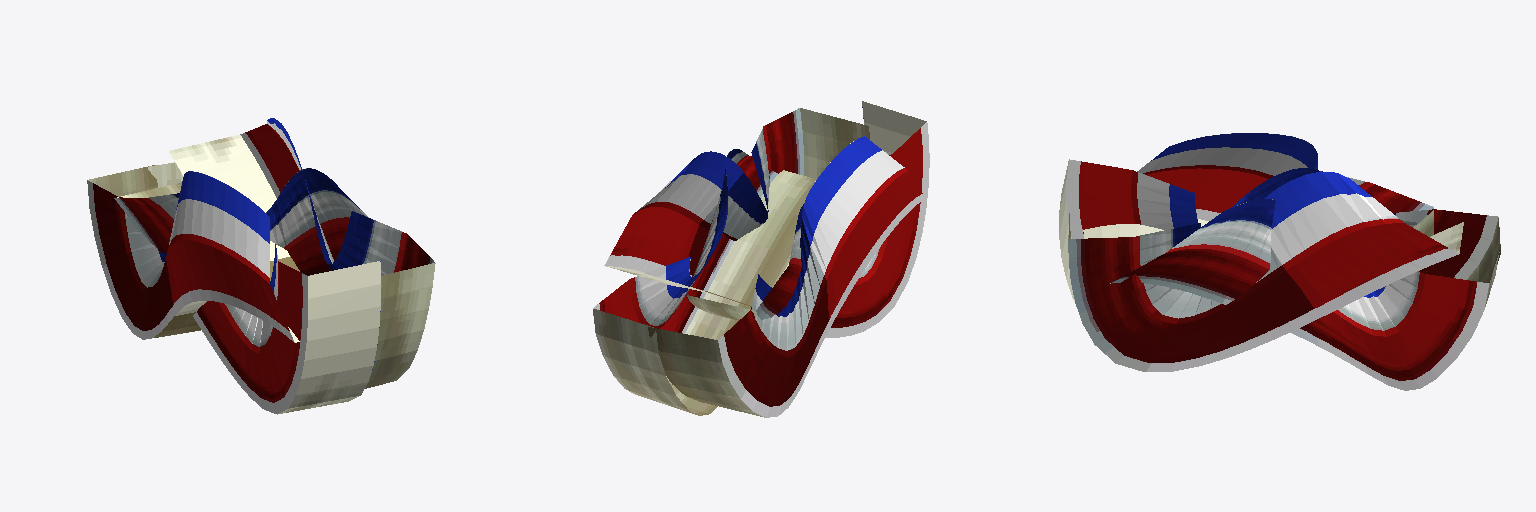
The picture shows the model from 3 angles: view 1: azimuth 30°, elevation 25°; view 2: azimuth 150°, elevation 25°; view 3: azimuth 270°, elevation 25°; orthographic projection.
Visible parts, largest first — view 1: polygon3, polygon2, polygon0, polygon1; view 2: polygon3, polygon1, polygon0, polygon2; view 3: polygon0, polygon1, polygon3, polygon2.
Part boxes in pixels (bbox=[...]): polygon3: bbox=[87, 165, 299, 342]; polygon2: bbox=[114, 182, 380, 414]; polygon0: bbox=[169, 118, 435, 388]; polygon1: bbox=[148, 162, 368, 275]; polygon3: bbox=[648, 136, 925, 417]; polygon1: bbox=[593, 149, 816, 415]; polygon0: bbox=[604, 108, 869, 306]; polygon2: bbox=[686, 101, 929, 337]; polygon0: bbox=[1068, 171, 1463, 371]; polygon1: bbox=[1110, 199, 1499, 390]; polygon3: bbox=[1083, 133, 1500, 282]; polygon2: bbox=[1059, 159, 1433, 301].
Size of the model in its own units: 6.83 by 8.97 by 16.81.
Materials: 1 (1 with a texture image).